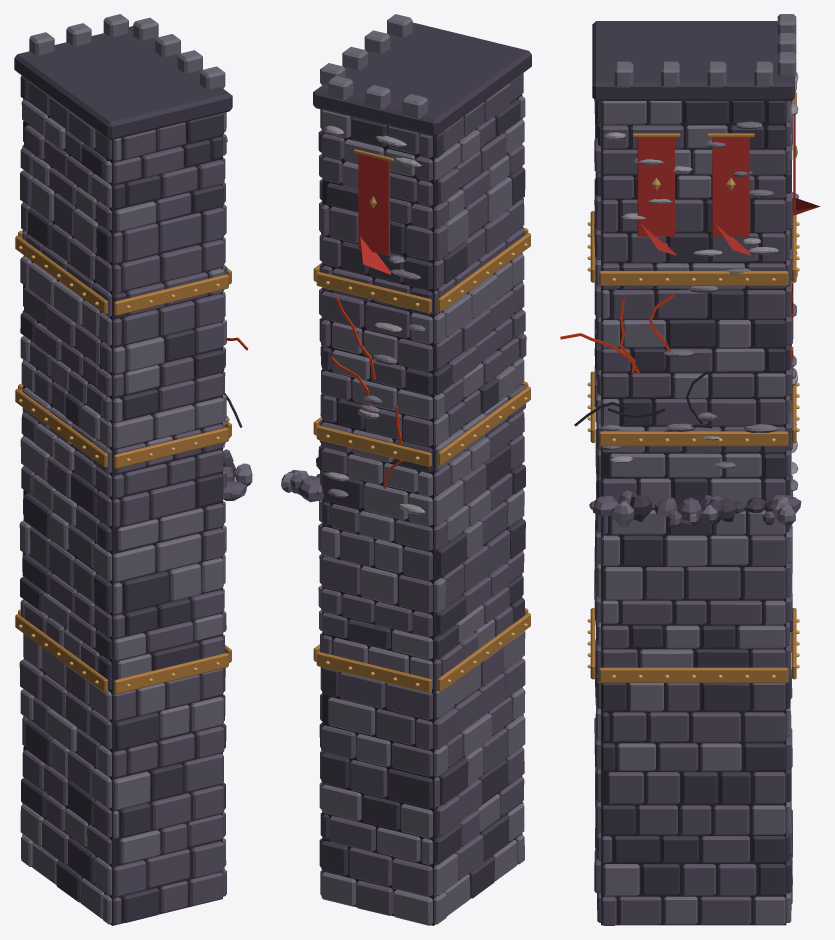
File: BossWall_EmberFortress.fbx
3 views of the same model, side by side, from view 1: azimuth 30°, elevation 25°; view 2: azimuth 150°, elevation 25°; view 3: azimuth 270°, elevation 25° (orthographic). The views are drawn at different scales.
Visible parts, largest first — view 1: BossWall_EmberFortress; view 2: BossWall_EmberFortress; view 3: BossWall_EmberFortress.
Part boxes in pixels (x1=…): BossWall_EmberFortress: x1=14, y1=14, x2=252, y2=925; BossWall_EmberFortress: x1=281, y1=14, x2=531, y2=925; BossWall_EmberFortress: x1=560, y1=14, x2=820, y2=925.
Bounding box in the file's own units: 434 × 2038 × 559.
